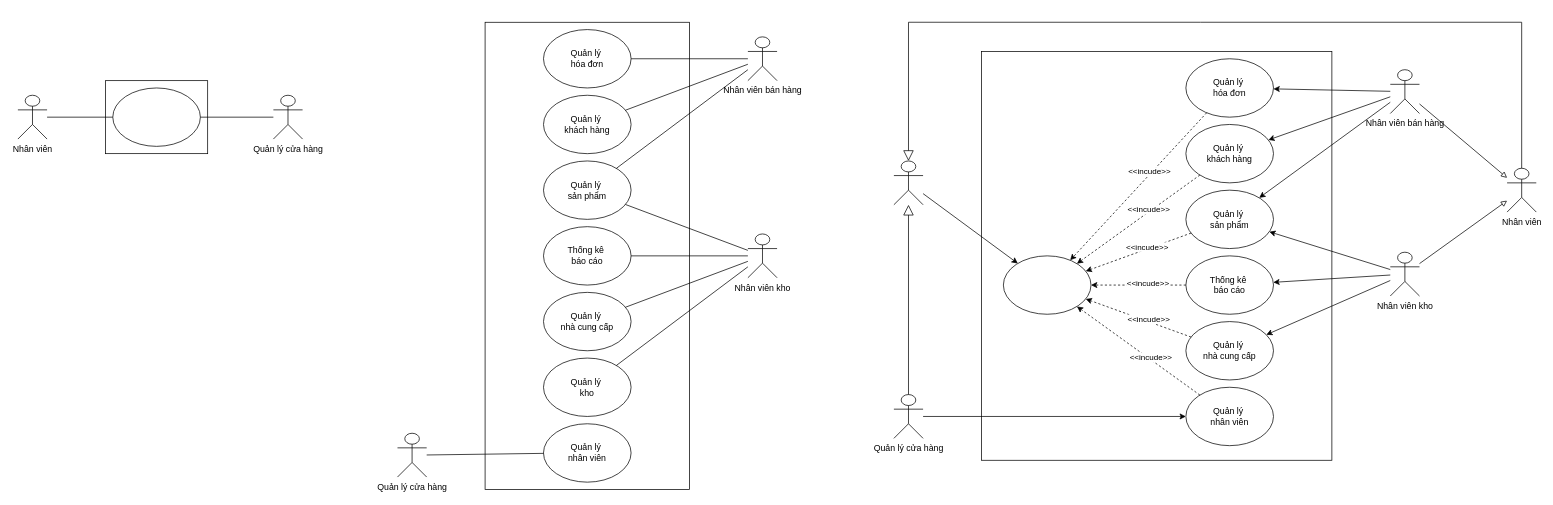
Image size: 1553x505. Some labels were removed from this diagram. The shapes that lost their labels are listed below. From the top down, each one's centre as x and y in pixels, then its label:
At point 156,116: "Quản lý cửa hàng thời trang".
At point 908,182: "Người dùng".
At point 1047,284: "Đăng nhập".
